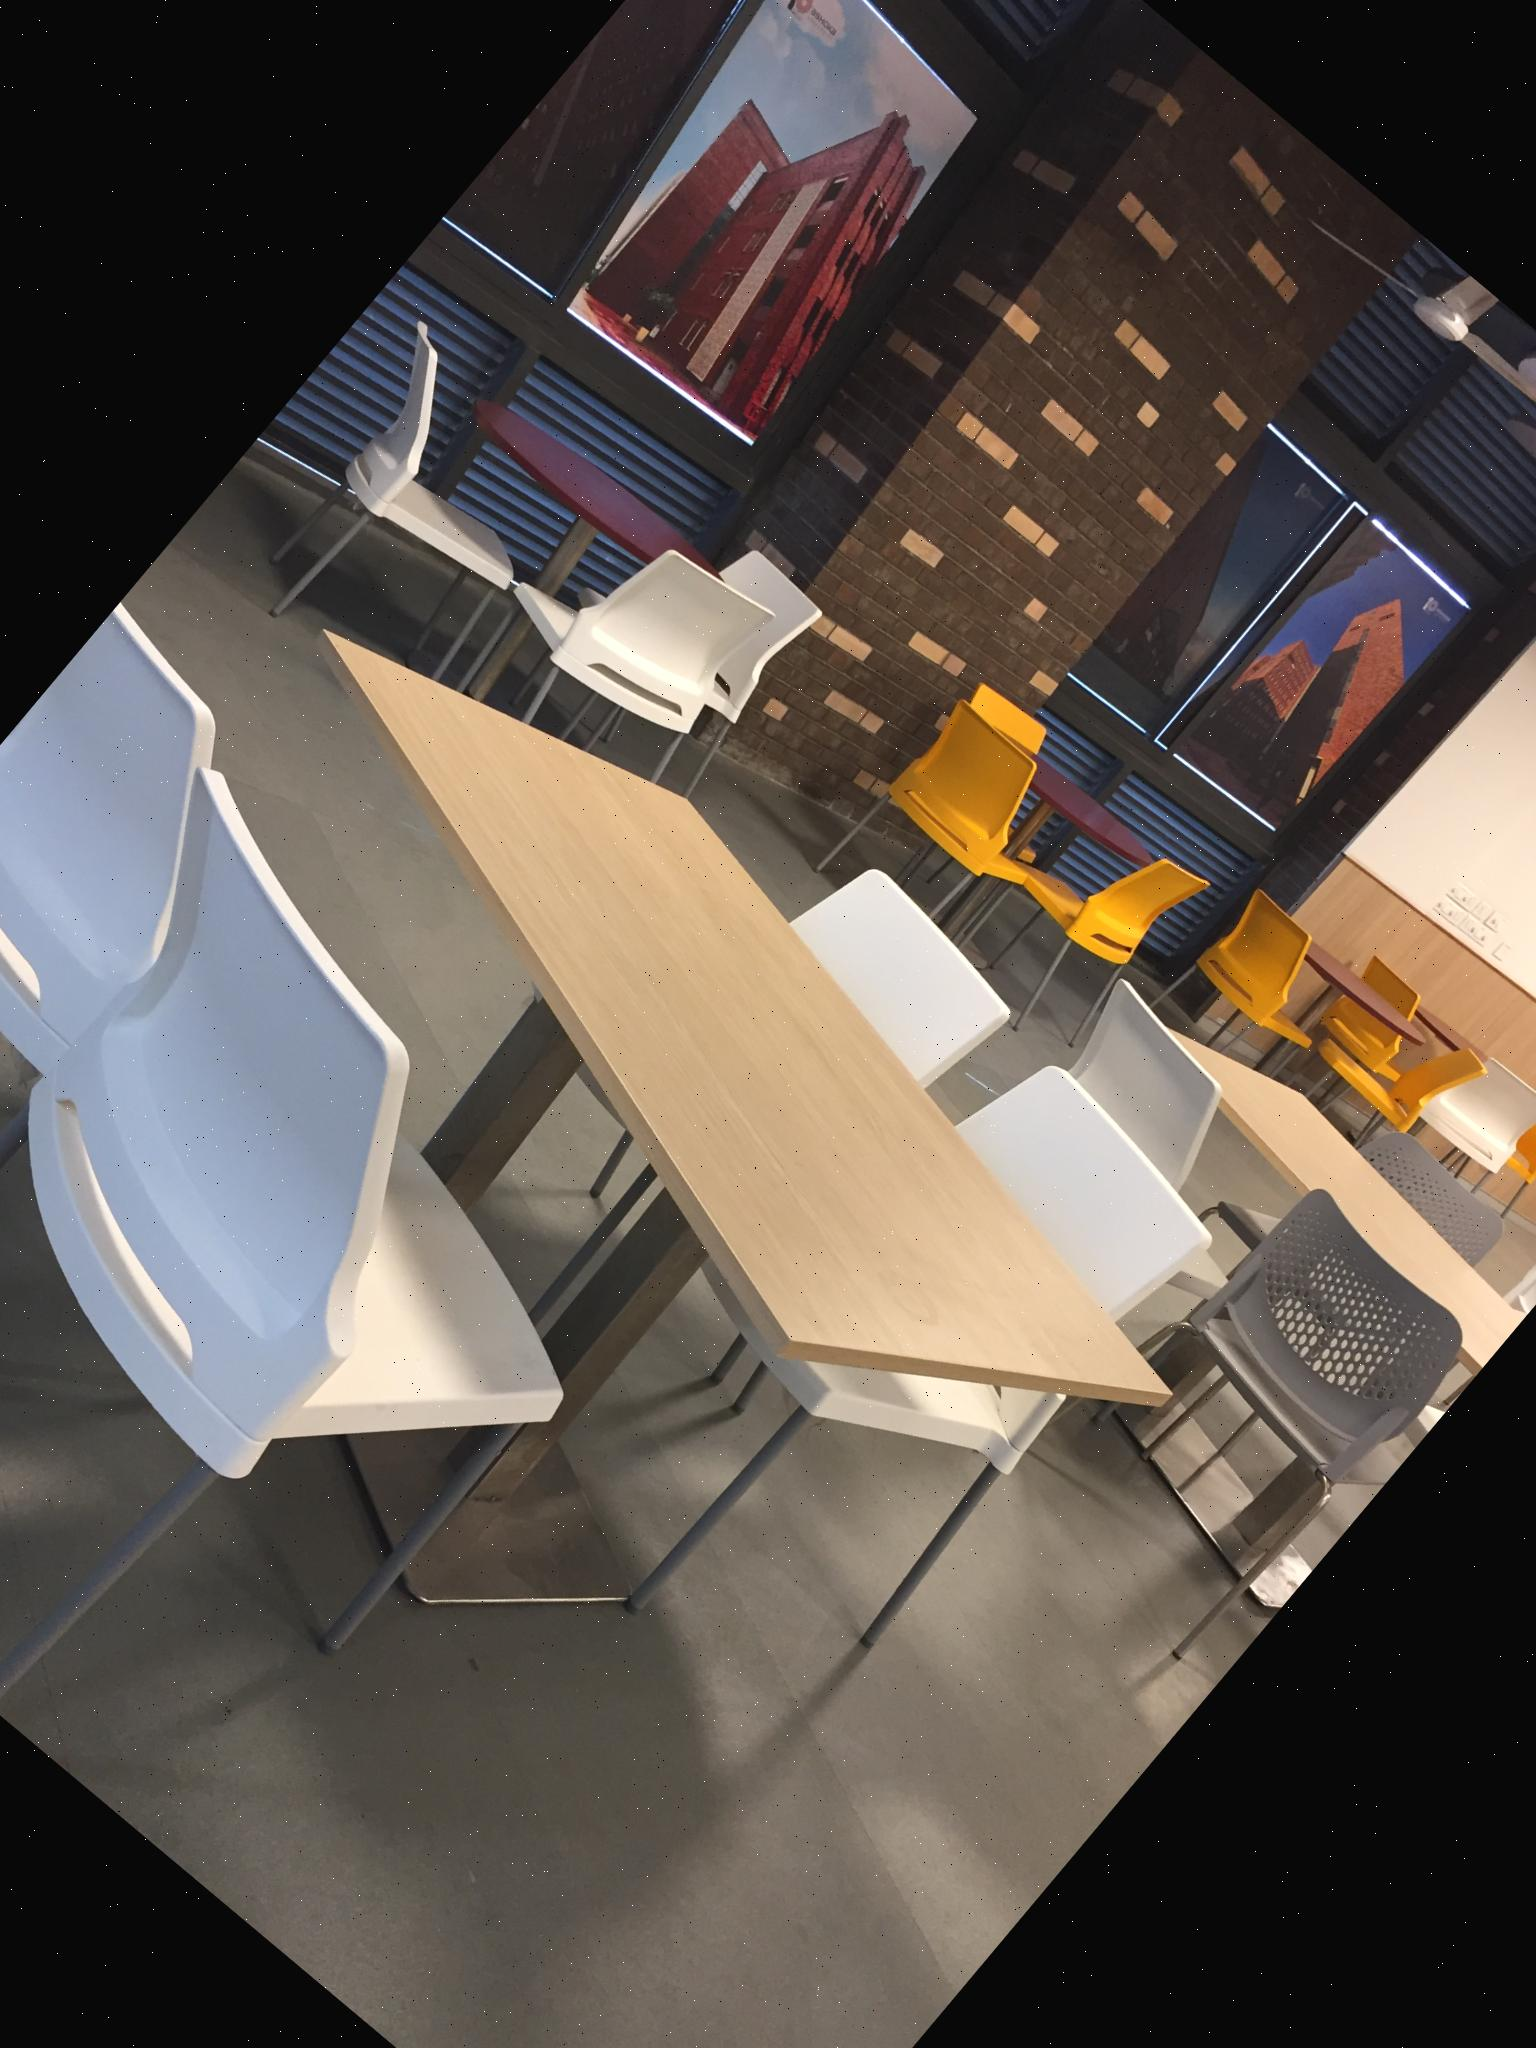chair: (0, 755, 736, 1863), (500, 969, 1239, 1745), (0, 569, 502, 1488), (999, 1163, 1496, 1682), (1033, 1159, 1509, 1655), (889, 972, 1338, 1430), (213, 318, 610, 724), (211, 323, 605, 726), (423, 482, 795, 863), (439, 471, 789, 826), (934, 780, 1215, 1069), (812, 693, 1087, 977), (749, 842, 1029, 1113), (591, 542, 834, 803), (849, 676, 1078, 916), (1147, 882, 1367, 1103), (1279, 969, 1491, 1180), (1279, 950, 1446, 1127), (1397, 1047, 1536, 1206), (1465, 1082, 1536, 1222)
